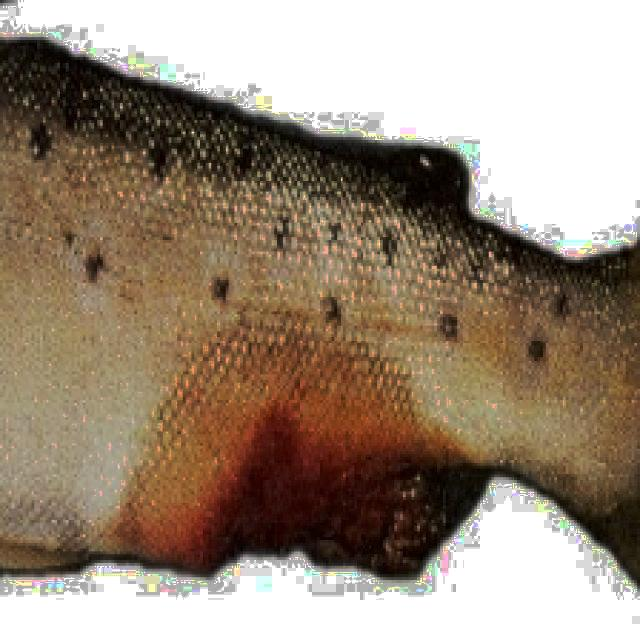Aeromonas Septicemia: (0, 41, 640, 572)
